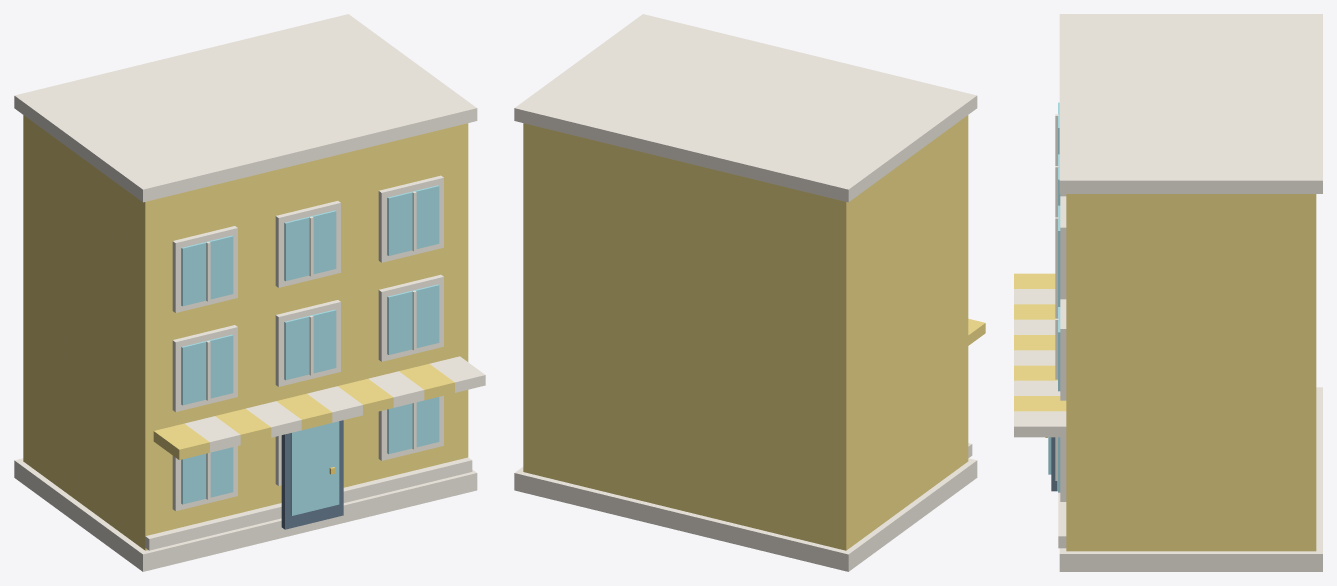
Rendered from 06_shop_yellow.glb.
3 renders of one model, left to right at view 1: azimuth 30°, elevation 25°; view 2: azimuth 150°, elevation 25°; view 3: azimuth 270°, elevation 25°, orthographic. The views are drawn at different scales.
Parts seen in each view (by area): view 1: 06_shop_yellow; view 2: 06_shop_yellow; view 3: 06_shop_yellow.
Boxes of the visible parts, box(x1,y1,x2,y2) form: 06_shop_yellow: box(14, 14, 485, 571); 06_shop_yellow: box(514, 14, 985, 571); 06_shop_yellow: box(1014, 14, 1322, 571).
Bounding box in the file's own units: 6 × 6.56 × 4.7.
